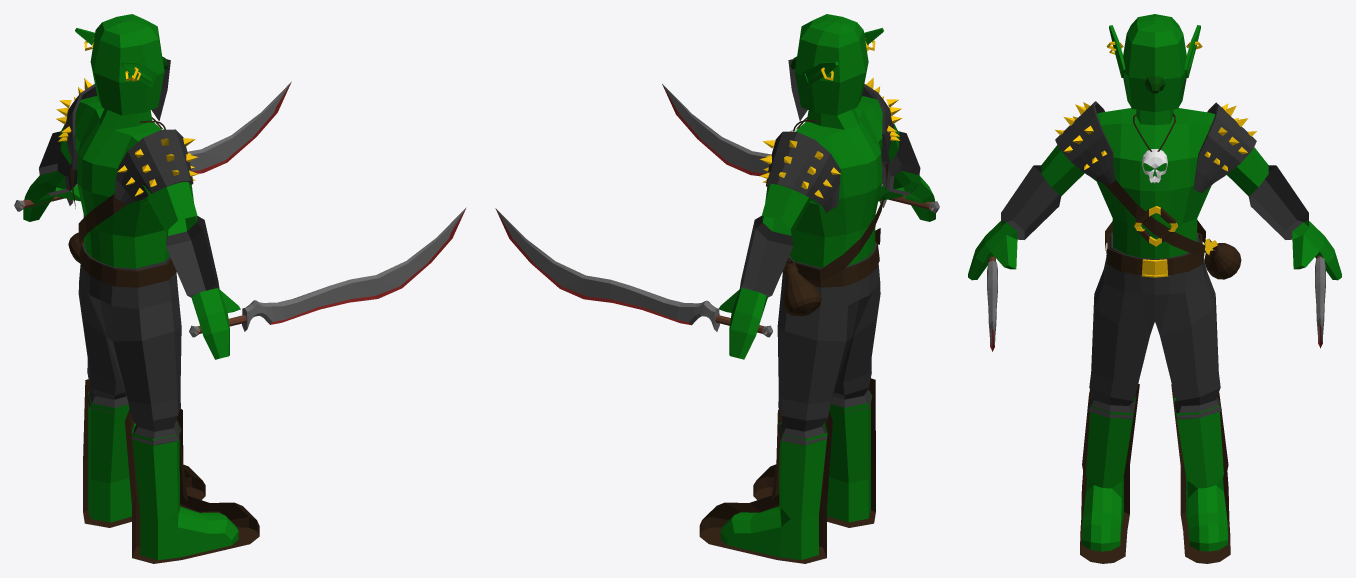
File: GoblinKiller.fbx
3 views of the same model, side by side, from view 1: azimuth 30°, elevation 25°; view 2: azimuth 150°, elevation 25°; view 3: azimuth 270°, elevation 25° (orthographic). The views are drawn at different scales.
Parts seen in each view (by area): view 1: Body, Trousers, ShoulderPads, Sword2, Boot2, Sword1, WaistBelt, Boot1, Belts, Ears; view 2: Body, Trousers, ShoulderPads, Sword1, Boot1, Sword2, Boot2, Bag, Belts, WaistBelt, Ears; view 3: Body, Trousers, ShoulderPads, Belts, Boot2, Boot1, WaistBelt, Bag, Sword2, Sword1, Necklace, Ears.
Boxes of the visible parts, <box> form: Body: <box>23,14,240,560</box>; Trousers: <box>78,243,181,445</box>; ShoulderPads: <box>56,78,198,204</box>; Sword2: <box>189,207,466,337</box>; Boot2: <box>125,408,259,563</box>; Sword1: <box>14,81,291,211</box>; WaistBelt: <box>79,241,176,287</box>; Boot1: <box>83,379,205,527</box>; Belts: <box>70,165,126,243</box>; Ears: <box>75,28,157,87</box>; Body: <box>719,14,935,559</box>; Trousers: <box>777,243,880,445</box>; ShoulderPads: <box>759,77,902,212</box>; Sword1: <box>495,208,772,337</box>; Boot1: <box>699,409,832,563</box>; Sword2: <box>662,84,939,212</box>; Boot2: <box>753,378,875,527</box>; Bag: <box>783,261,821,316</box>; Belts: <box>786,163,888,281</box>; WaistBelt: <box>782,241,879,287</box>; Ears: <box>801,28,883,87</box>; Body: <box>968,14,1341,551</box>; Trousers: <box>1088,233,1221,419</box>; ShoulderPads: <box>1055,101,1256,192</box>; Belts: <box>1104,179,1205,257</box>; Boot2: <box>1080,384,1139,563</box>; Boot1: <box>1171,384,1230,563</box>; WaistBelt: <box>1107,232,1202,277</box>; Bag: <box>1203,238,1241,279</box>; Sword2: <box>987,256,997,351</box>; Sword1: <box>1315,255,1325,348</box>; Necklace: <box>1133,113,1175,183</box>; Ears: <box>1109,25,1200,77</box>.
Bounding box in the file's own units: 323 × 530 × 363.
